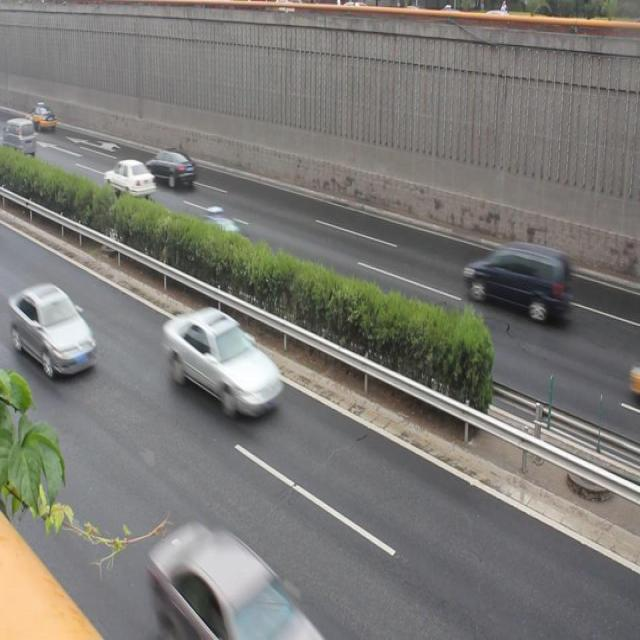car: (148, 527, 324, 640), (162, 308, 279, 411), (9, 286, 98, 372), (169, 215, 247, 279), (144, 146, 198, 188), (104, 157, 154, 201)
truck: (460, 240, 567, 324)
